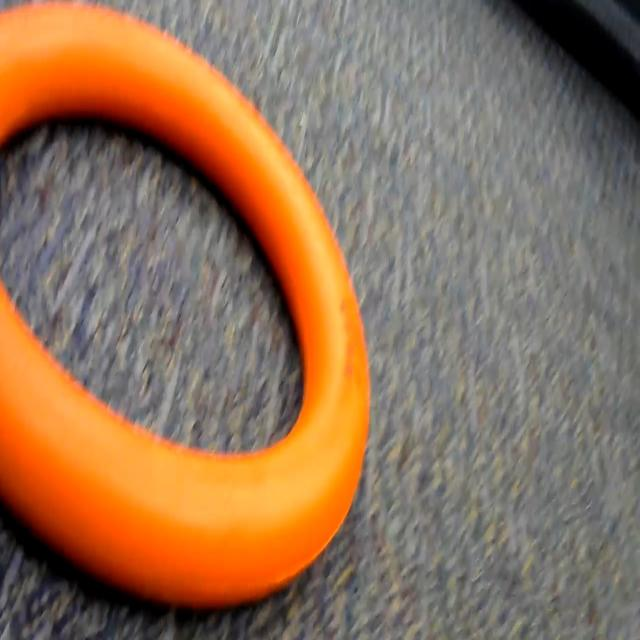note: (0, 7, 377, 640)
